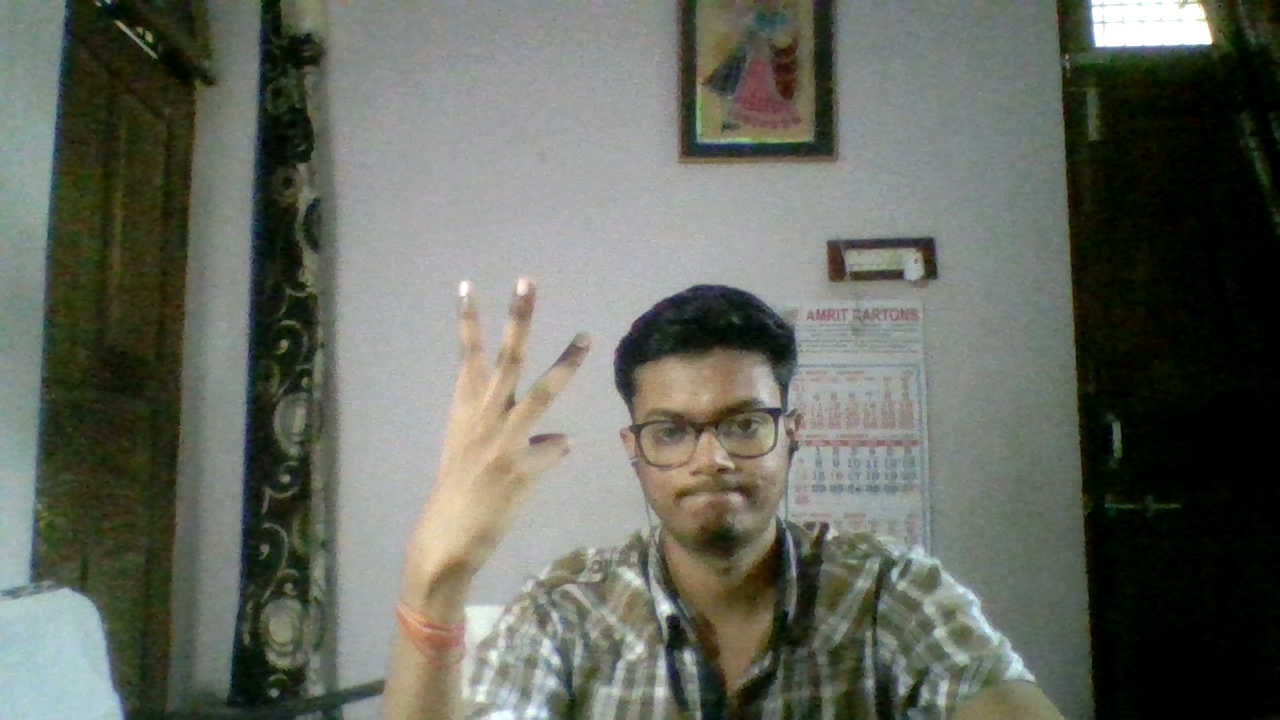three: (369, 245, 587, 635)
